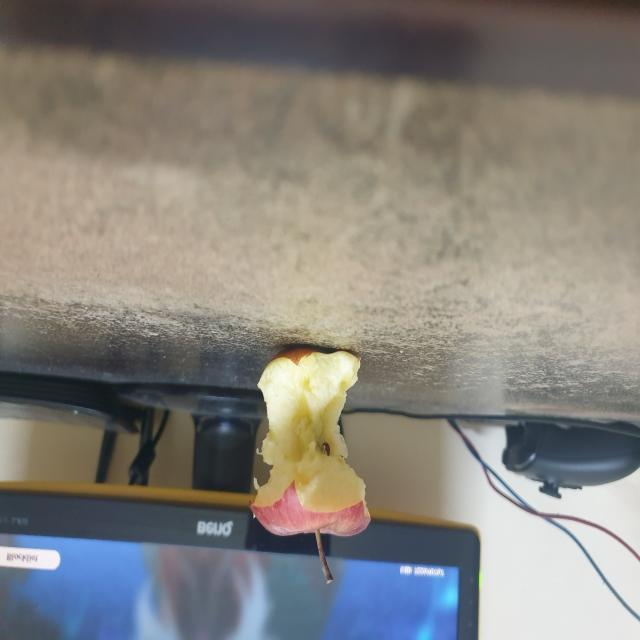apple: (238, 328, 380, 605)
